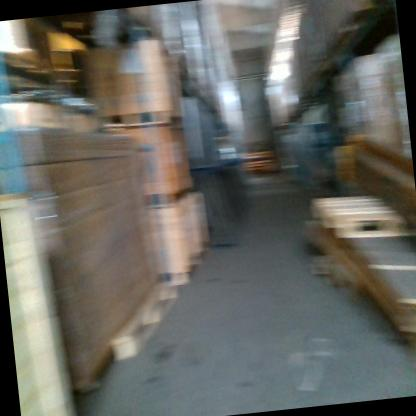pallet: (105, 277, 185, 364), (309, 187, 407, 246), (100, 108, 188, 140)
